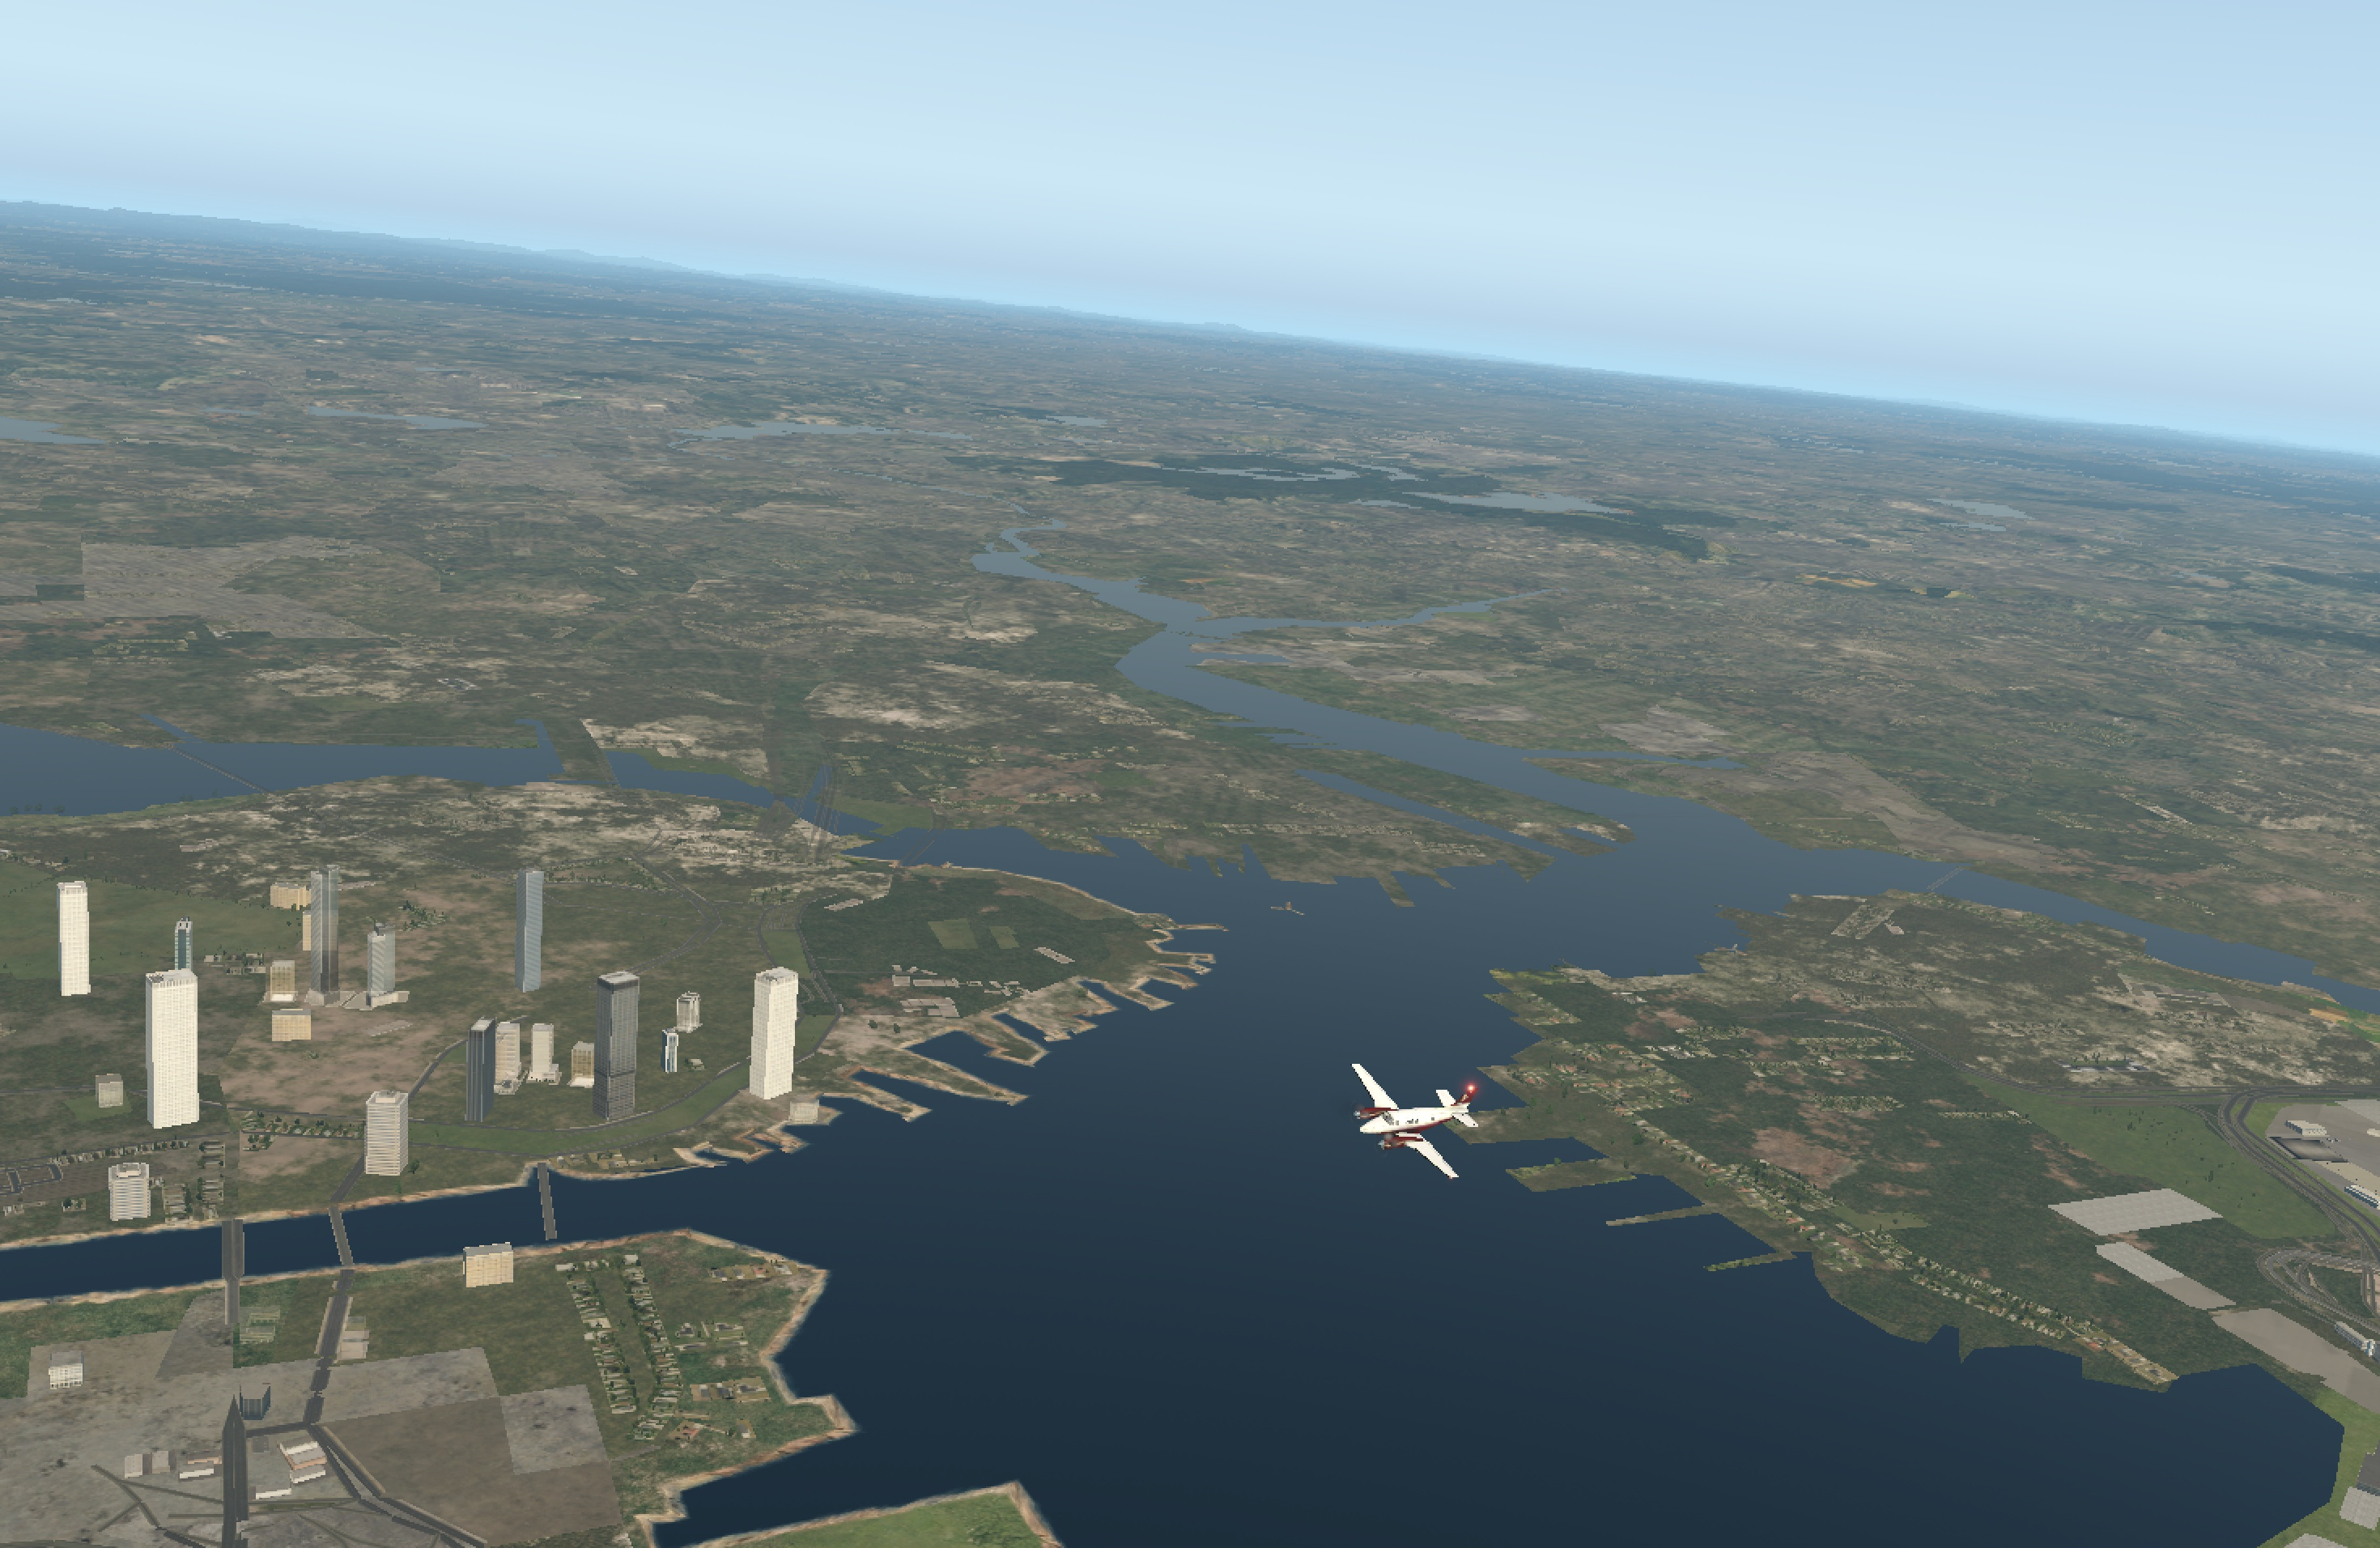aircraft: (1299, 1093, 1490, 1164)
